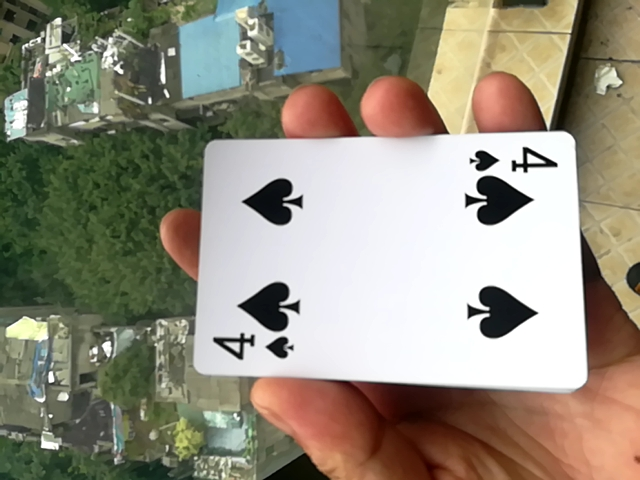ht 4: (178, 131, 584, 395)
